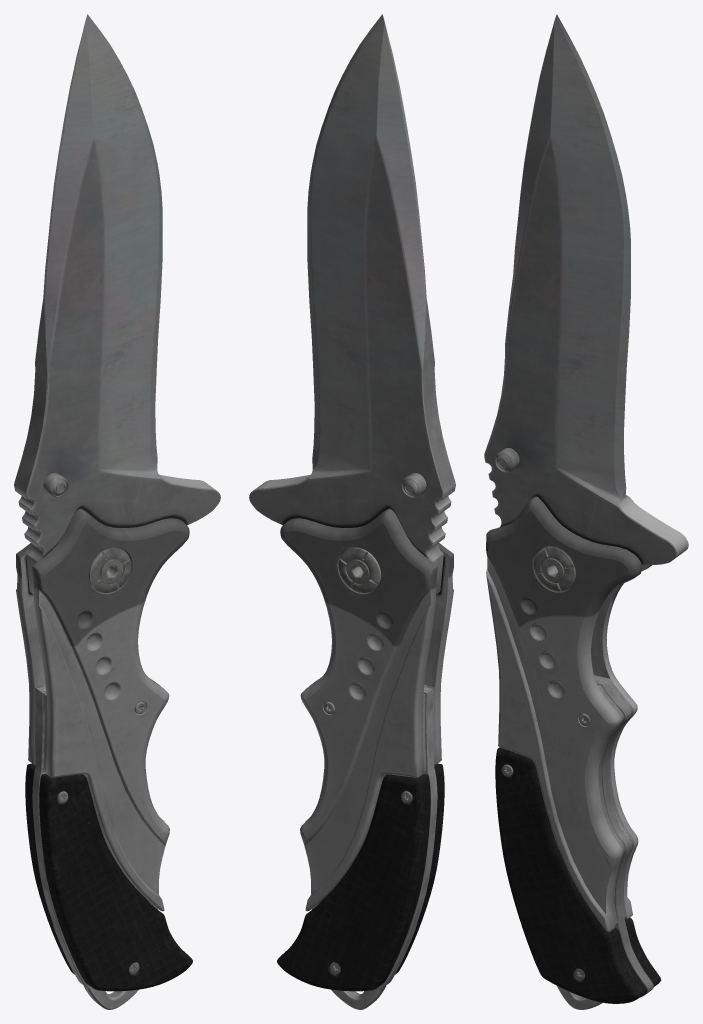
Rendered from weapon_knife_outdoor.glb.
3 renders of one model, left to right at view 1: azimuth 30°, elevation 25°; view 2: azimuth 150°, elevation 25°; view 3: azimuth 330°, elevation 25°, orthographic.
Parts seen in each view (by area): view 1: weapons/models/knife/knife_outdoor/weapon_knife_outdoor.vmdl; view 2: weapons/models/knife/knife_outdoor/weapon_knife_outdoor.vmdl; view 3: weapons/models/knife/knife_outdoor/weapon_knife_outdoor.vmdl.
Part boxes in pixels (x1,y1,x2,y2): weapons/models/knife/knife_outdoor/weapon_knife_outdoor.vmdl: (14, 14, 220, 1009); weapons/models/knife/knife_outdoor/weapon_knife_outdoor.vmdl: (249, 14, 455, 1009); weapons/models/knife/knife_outdoor/weapon_knife_outdoor.vmdl: (484, 14, 688, 1009).
Size of the model in its own units: 2.68 by 13.1 by 0.6922.
1 material, 1 textured.
